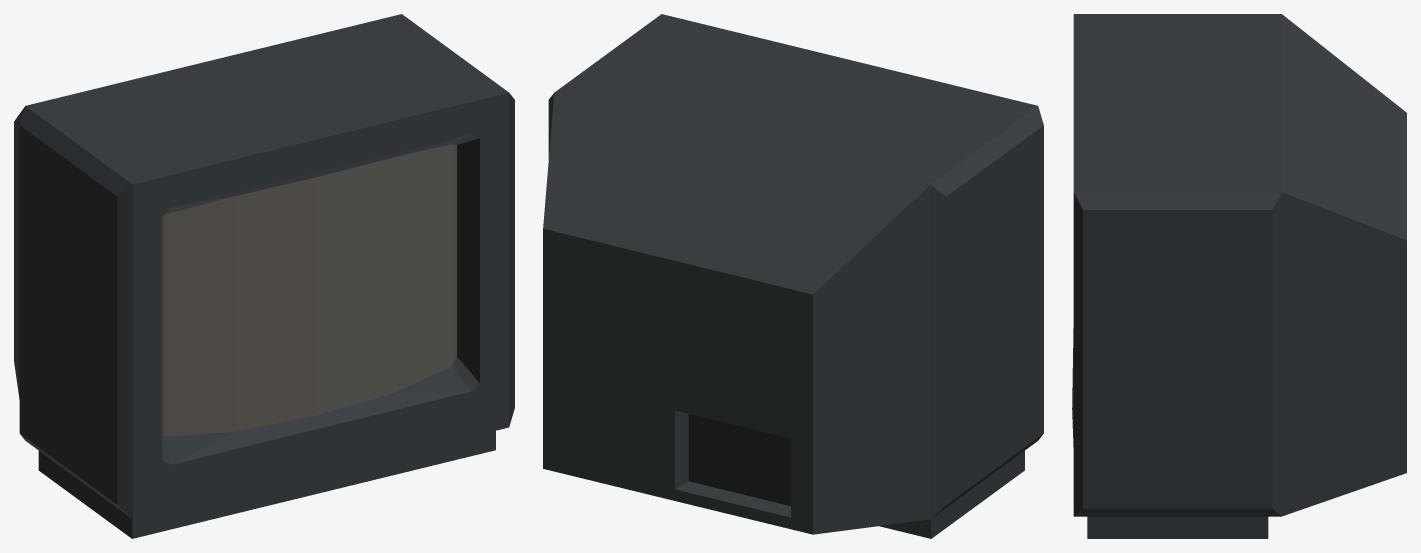
File: SM_Prop_Electronics_Tv_01.glb
The picture shows the model from 3 angles, left to right: view 1: azimuth 30°, elevation 25°; view 2: azimuth 150°, elevation 25°; view 3: azimuth 270°, elevation 25°; orthographic projection. The views are drawn at different scales.
Parts seen in each view (by area): view 1: SM_Prop_Electronics_Tv_01; view 2: SM_Prop_Electronics_Tv_01; view 3: SM_Prop_Electronics_Tv_01.
Part boxes in pixels (left/top/right/bottom): SM_Prop_Electronics_Tv_01: left=14, top=14, right=514, bottom=538; SM_Prop_Electronics_Tv_01: left=543, top=14, right=1043, bottom=538; SM_Prop_Electronics_Tv_01: left=1072, top=14, right=1406, bottom=538.
Bounding box in the file's own units: 0.6716 × 0.5832 × 0.5055.
Materials: 1 (1 with a texture image).
